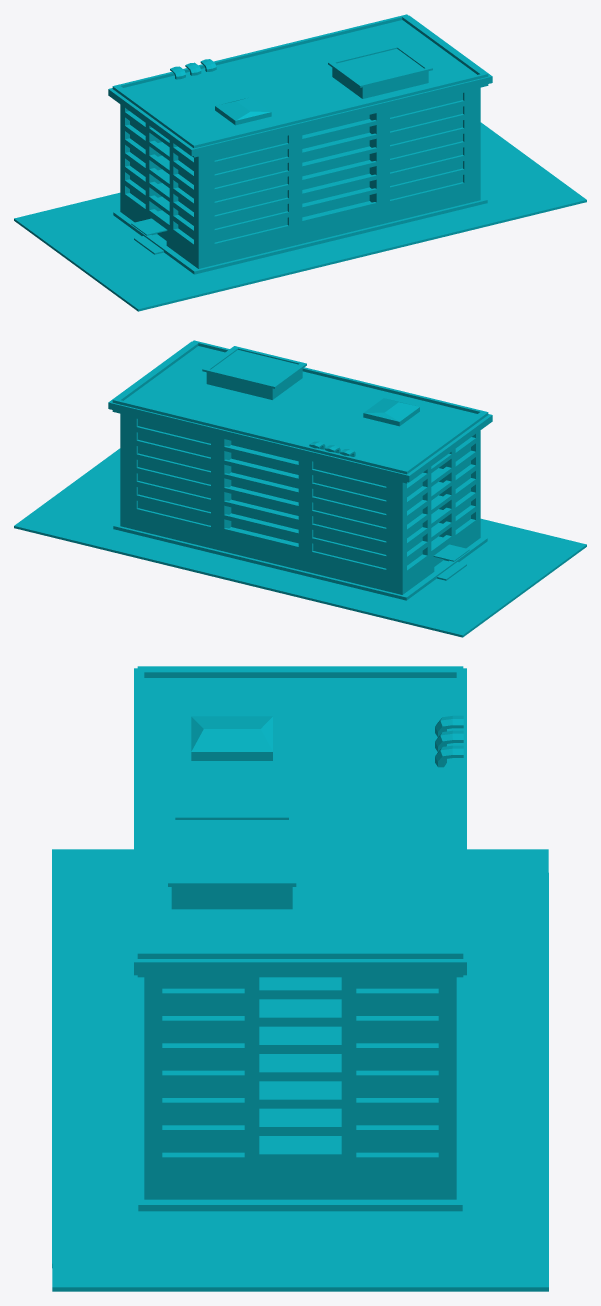
Rendered from student8.FBX.
3 renders of one model, top to bottom at view 1: azimuth 30°, elevation 25°; view 2: azimuth 150°, elevation 25°; view 3: azimuth 270°, elevation 25°, orthographic. The views are drawn at different scales.
Visible parts, largest first — view 1: 学生公寓8; view 2: 学生公寓8; view 3: 学生公寓8.
Part boxes in pixels (left/top/right/bottom): 学生公寓8: left=14, top=14, right=586, bottom=311; 学生公寓8: left=14, top=340, right=586, bottom=637; 学生公寓8: left=52, top=666, right=548, bottom=1291.
Bounding box in the file's own units: 25.04 × 7.63 × 12.
